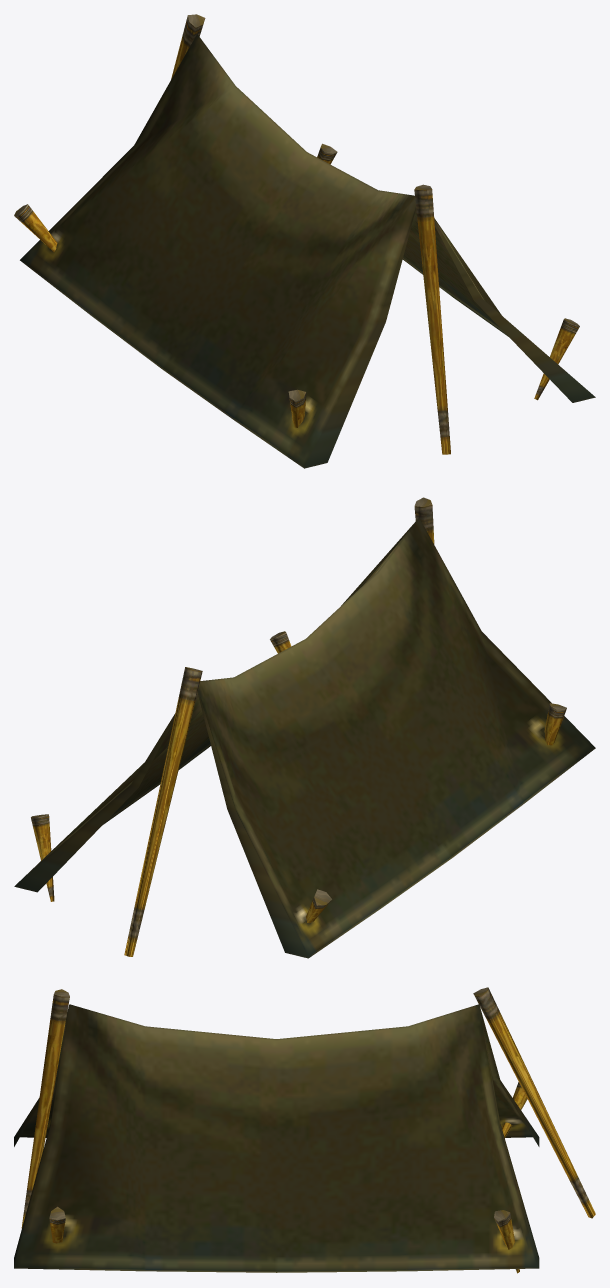
The model's file is TENT_B.fbx.
3 renders of one model, top to bottom at view 1: azimuth 30°, elevation 25°; view 2: azimuth 150°, elevation 25°; view 3: azimuth 270°, elevation 25°, orthographic. The views are drawn at different scales.
Parts seen in each view (by area): view 1: TENT_B; view 2: TENT_B; view 3: TENT_B.
Part boxes in pixels (bbox=[...]): TENT_B: bbox=[14, 14, 595, 468]; TENT_B: bbox=[14, 497, 595, 958]; TENT_B: bbox=[14, 987, 595, 1273].
Bounding box in the file's own units: 27527 × 21824 × 48402.
Materials: 2 (2 with a texture image).
